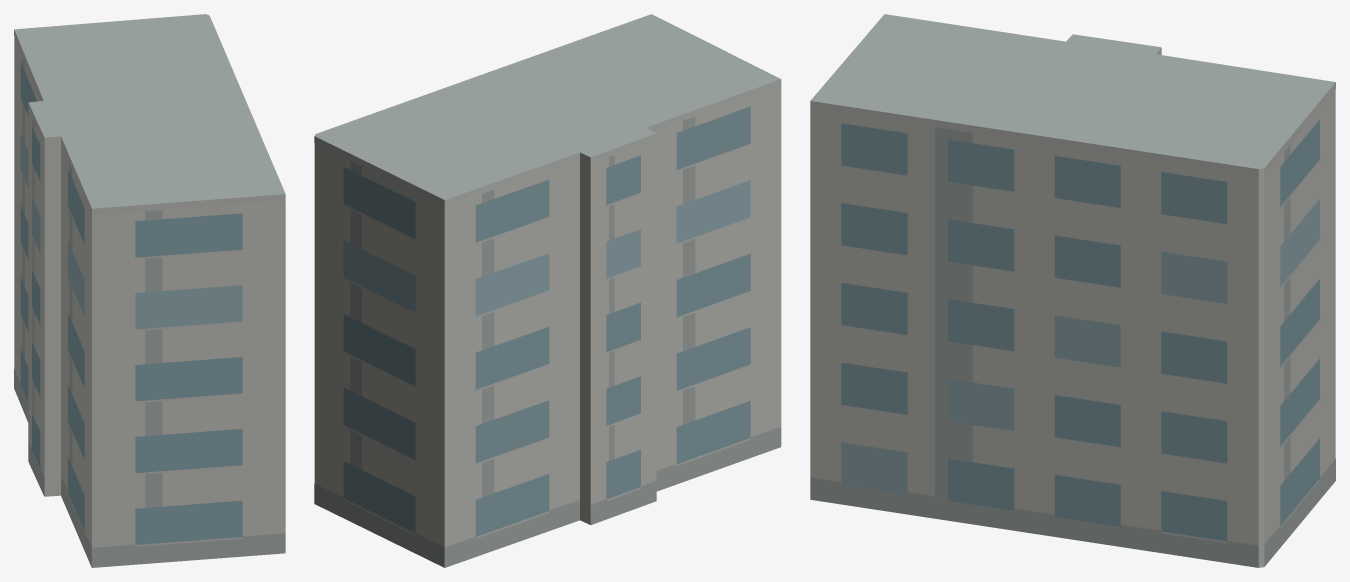
Rendered from survey-upis-32952308.glb.
3 renders of one model, left to right at view 1: azimuth 30°, elevation 25°; view 2: azimuth 150°, elevation 25°; view 3: azimuth 270°, elevation 25°, orthographic. The views are drawn at different scales.
Parts seen in each view (by area): view 1: survey-upis-32952308.tmp; view 2: survey-upis-32952308.tmp; view 3: survey-upis-32952308.tmp.
Boxes of the visible parts, left/top/right/bottom form: survey-upis-32952308.tmp: left=14, top=14, right=285, bottom=567; survey-upis-32952308.tmp: left=314, top=14, right=781, bottom=567; survey-upis-32952308.tmp: left=810, top=14, right=1335, bottom=567.
Bounding box in the file's own units: 11.02 × 13.2 × 15.78.
